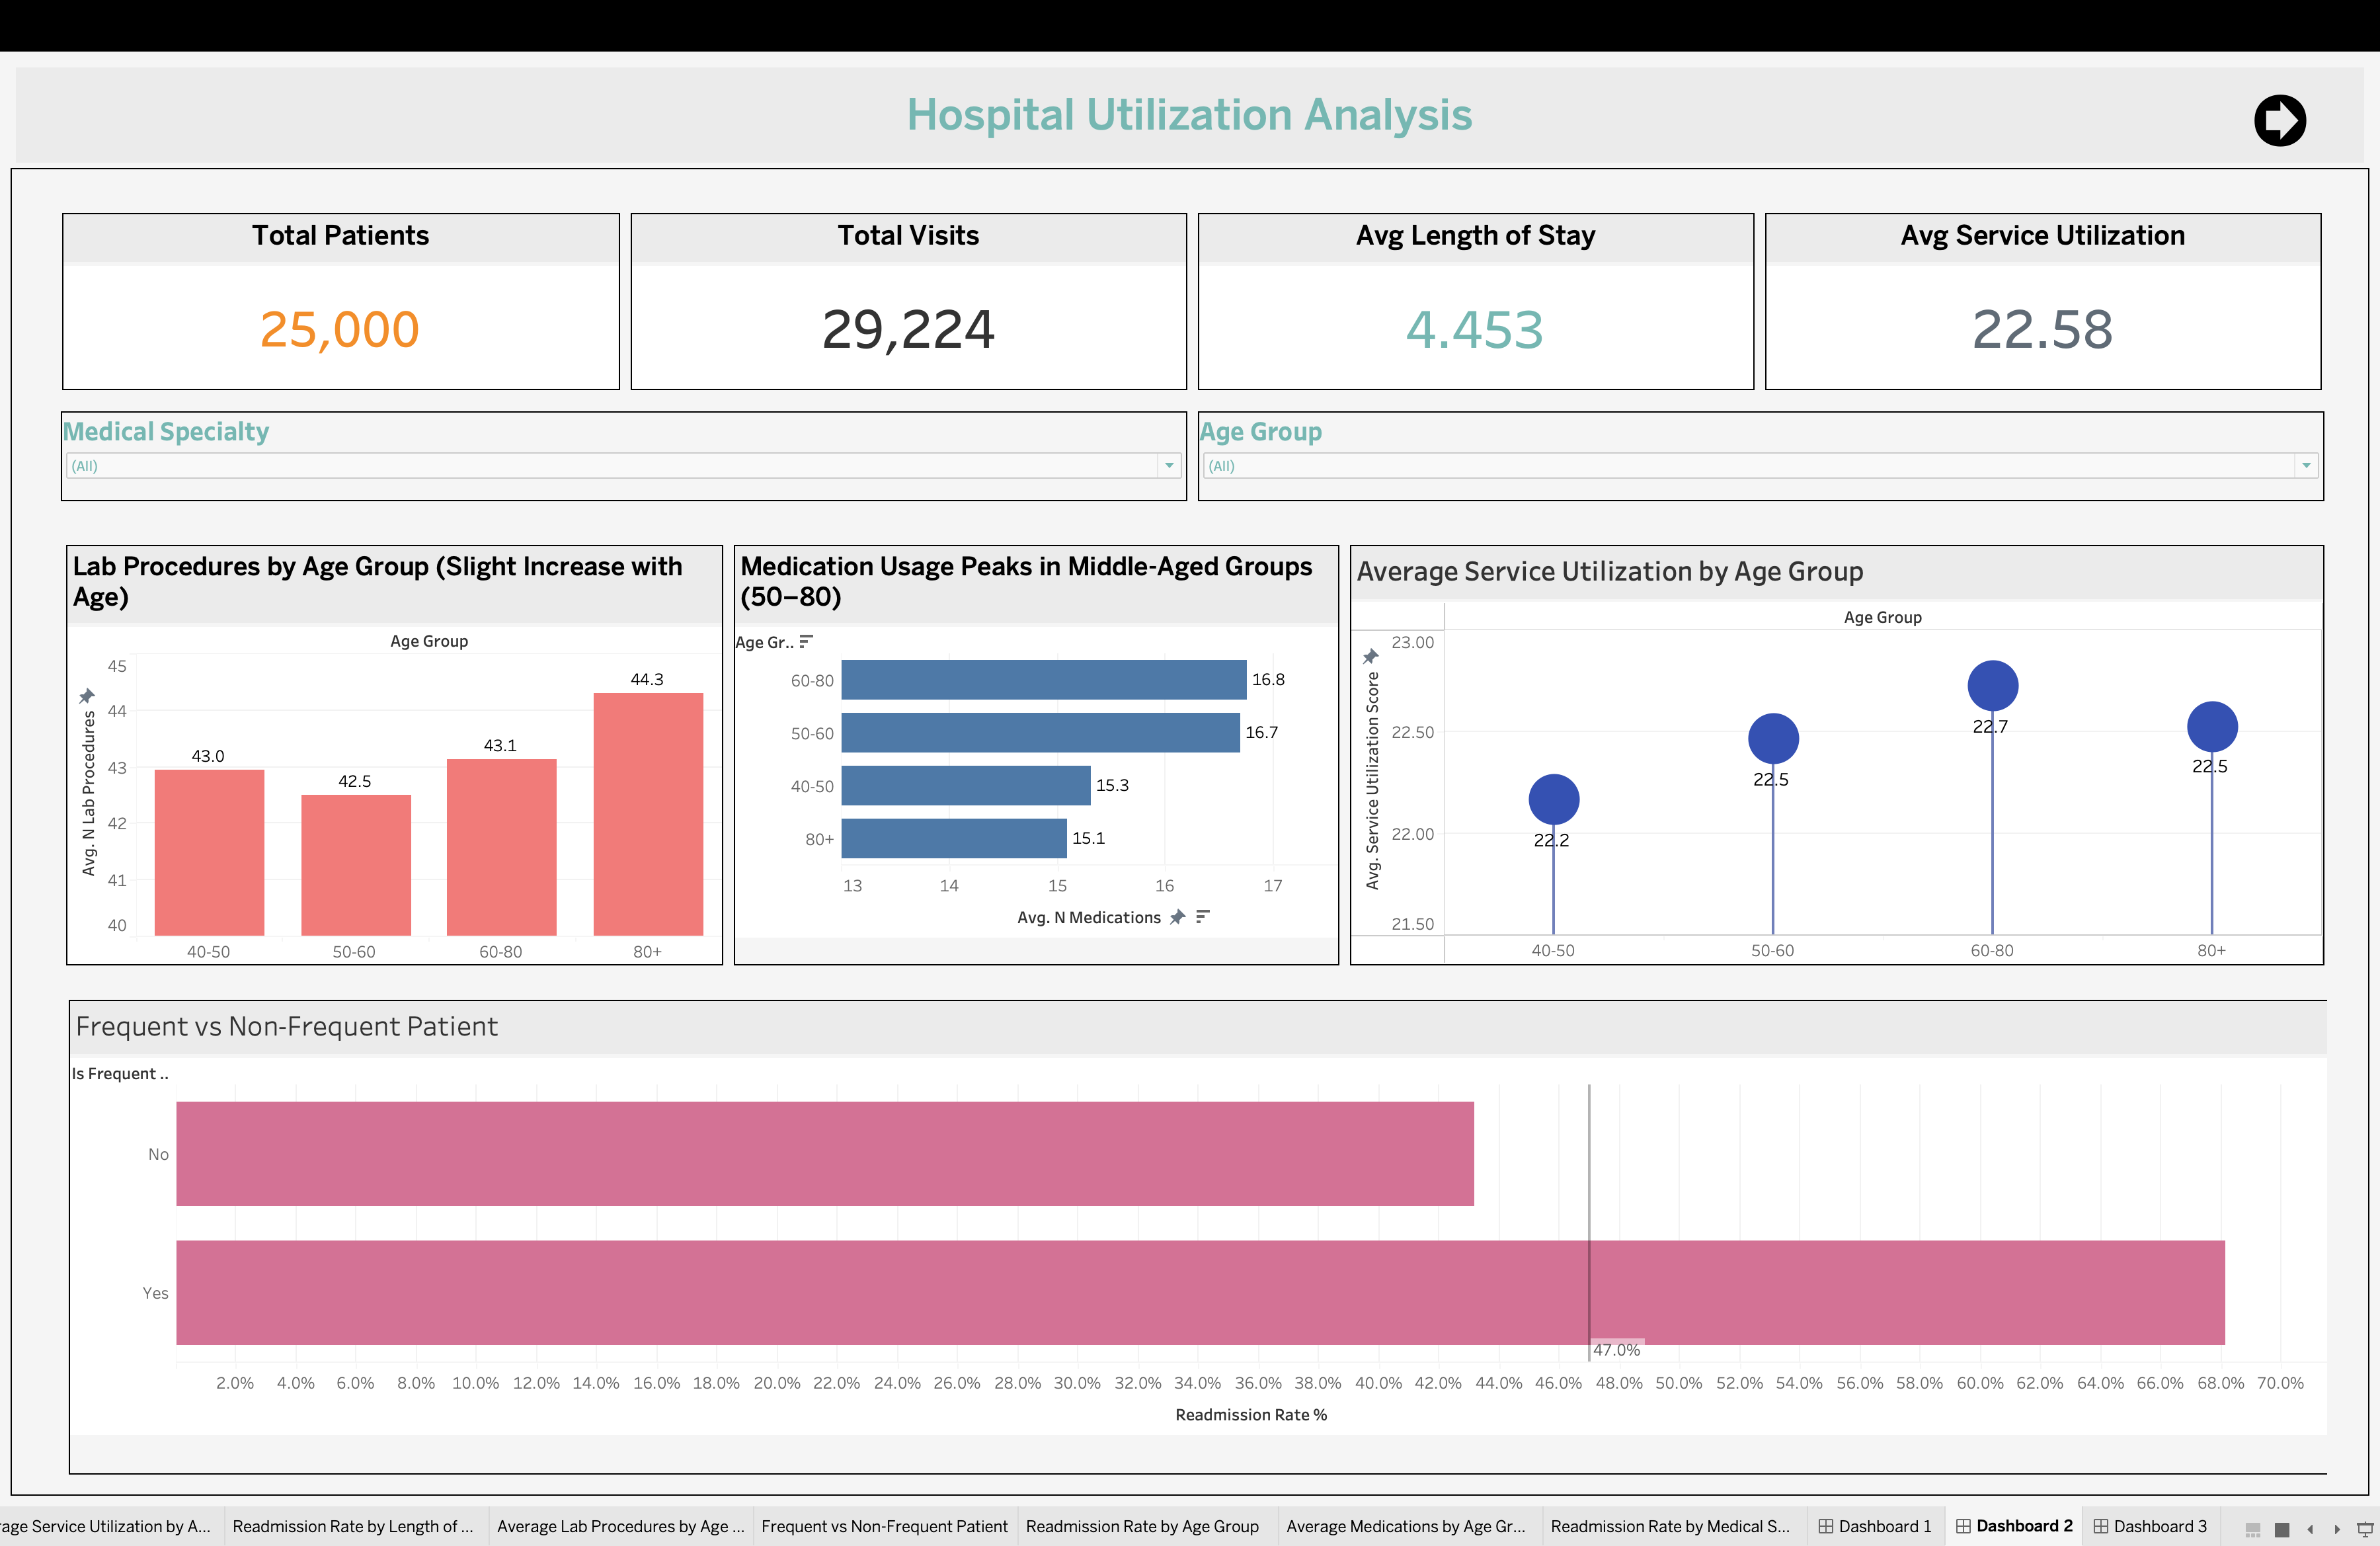

What the dashboard file says about the page in this screenshot:
{"tool":"tableau","page":{"name":"Dashboard 2","canvas":[1000,1000],"units":"permille","ordinal":1},"visuals":[{"type":"title","box":[5.3,7.7,989.4,77.1]},{"type":"dashboard-object","box":[934,22.2,49.5,50.1]},{"type":"worksheet","title":"KPI – Total Patients","mark":"Automatic","box":[23.8,106.9,238.8,129.1]},{"type":"worksheet","title":"KPI – Total Visits","mark":"Automatic","box":[262.5,106.9,238.8,129.1]},{"type":"worksheet","title":"KPI – Avg Length of Stay","mark":"Automatic","box":[501.3,106.9,238.1,129.1]},{"type":"worksheet","title":"KPI – Avg Service Utilization","mark":"Automatic","box":[739.5,106.9,238.1,129.1]},{"type":"filter","title":"KPI – Avg Length of Stay","param":"[federated.0si64f10hav03x15ncmpk0dghz5k].[none:medical_specialty:ok]","box":[23.1,243.7,478.2,69.4]},{"type":"filter","title":"KPI – Avg Length of Stay","param":"[federated.0si64f10hav03x15ncmpk0dghz5k].[none:age_group:ok]","box":[501.3,243.7,477.6,69.4]},{"type":"worksheet","title":"Average Lab Procedures by Age Group","mark":"Automatic","rows":["n_lab_procedures"],"cols":["age_group"],"box":[25.7,335.3,333.1,296.7]},{"type":"worksheet","title":"Average Medications by Age Group","mark":"Automatic","rows":["age_group"],"cols":["n_medications"],"box":[358.8,335.3,307.4,296.7]},{"type":"worksheet","title":"Average Service Utilization by Age Group","mark":"Circle","rows":["service_utilization_score","service_utilization_score"],"cols":["age_group"],"box":[666.2,335.3,312.7,296.7]},{"type":"worksheet","title":"Frequent vs Non-Frequent Patient","mark":"Automatic","rows":["is_frequent_patient"],"cols":["Calculation_3040557400469504"],"box":[26.4,648.4,953.8,333.3]}]}

Visuals, with their boxes on the dashboard's canvas, which has no fixed pixel size, in thousandths of its width and height (x1, y1, x2, y2). These are canvas units, not pixel positions in the 2380x1546 screenshot, which may show the page scaled, cropped or inside an application window:
title: {"x1": 5, "y1": 8, "x2": 995, "y2": 85}
dashboard-object: {"x1": 934, "y1": 22, "x2": 984, "y2": 72}
"KPI – Total Patients" worksheet: {"x1": 24, "y1": 107, "x2": 263, "y2": 236}
"KPI – Total Visits" worksheet: {"x1": 262, "y1": 107, "x2": 501, "y2": 236}
"KPI – Avg Length of Stay" worksheet: {"x1": 501, "y1": 107, "x2": 739, "y2": 236}
"KPI – Avg Service Utilization" worksheet: {"x1": 740, "y1": 107, "x2": 978, "y2": 236}
"KPI – Avg Length of Stay" filter: {"x1": 23, "y1": 244, "x2": 501, "y2": 313}
"KPI – Avg Length of Stay" filter: {"x1": 501, "y1": 244, "x2": 979, "y2": 313}
"Average Lab Procedures by Age Group" worksheet: {"x1": 26, "y1": 335, "x2": 359, "y2": 632}
"Average Medications by Age Group" worksheet: {"x1": 359, "y1": 335, "x2": 666, "y2": 632}
"Average Service Utilization by Age Group" worksheet (Circle marks): {"x1": 666, "y1": 335, "x2": 979, "y2": 632}
"Frequent vs Non-Frequent Patient" worksheet: {"x1": 26, "y1": 648, "x2": 980, "y2": 982}
